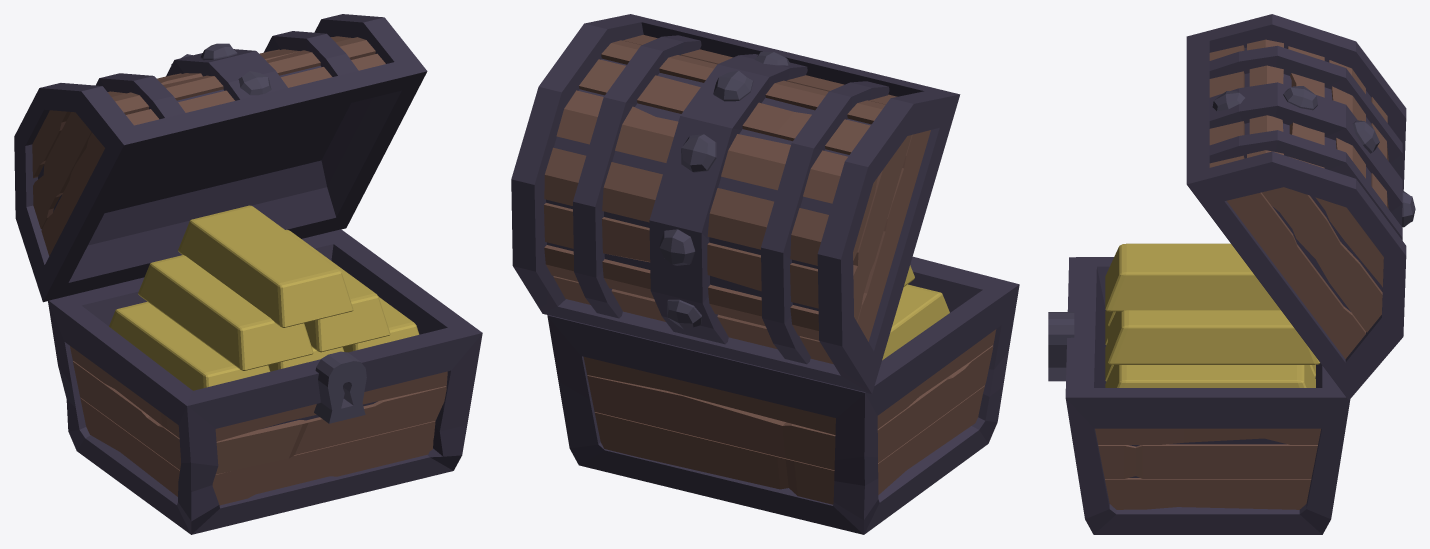
Rendered from chest_prop_ingots.glb.
3 views of the same model, side by side, from view 1: azimuth 30°, elevation 25°; view 2: azimuth 150°, elevation 25°; view 3: azimuth 270°, elevation 25° (orthographic). The views are drawn at different scales.
Size of the model in its own units: 0.9496 by 1.15 by 0.9962.
